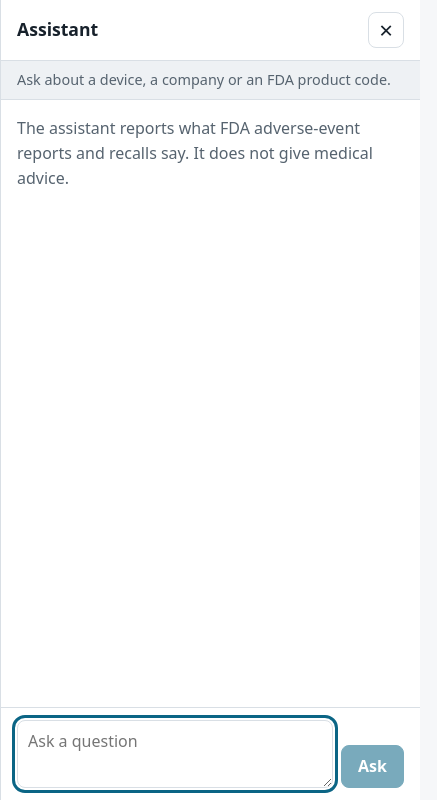
Test: statuses from /api/answer (handover §5) › help: the fixed text
This screenshot has width=437, height=800.
Step 1. Type "a question" into the text box named "Your question" → (175, 754), box [17,720,333,788]
Then press Enter
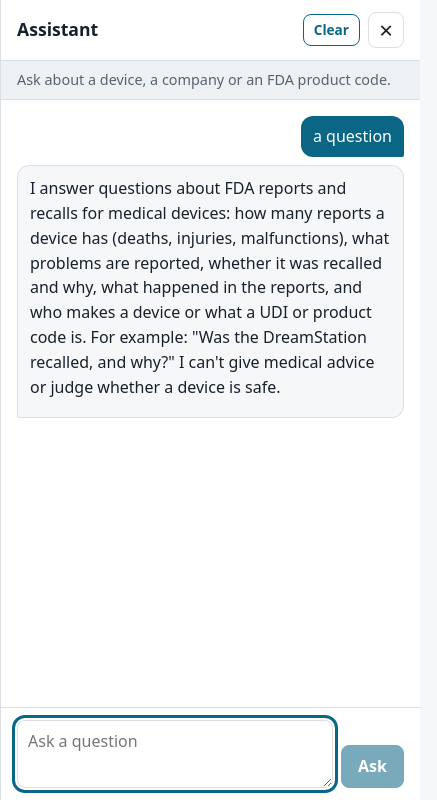
Expected: the element with class "reply" is shown, [17,165,404,418]
Expected: the element with class "reply" shows "I answer questions about FDA reports and recalls for medical devices: how many reports a device has (deaths, injuries, malfunctions), what problems are reported", [30,177,389,398]
